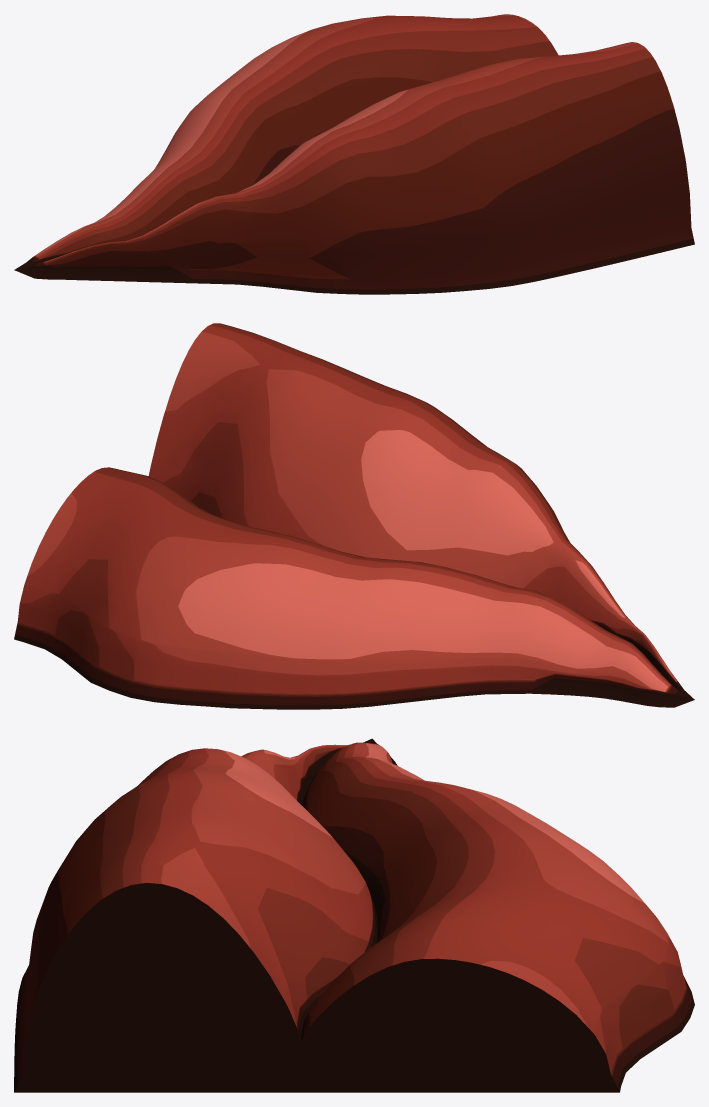
Rendered from eyespy_lips_left.glb.
The picture shows the model from 3 angles, top to bottom: view 1: azimuth 30°, elevation 25°; view 2: azimuth 150°, elevation 25°; view 3: azimuth 270°, elevation 25°; orthographic projection. The views are drawn at different scales.
Visible parts, largest first — view 1: eyespy_lips_left; view 2: eyespy_lips_left; view 3: eyespy_lips_left.
Part boxes in pixels (bbox=[...]): eyespy_lips_left: bbox=[14, 14, 694, 294]; eyespy_lips_left: bbox=[14, 323, 694, 709]; eyespy_lips_left: bbox=[14, 738, 694, 1092].
Bounding box in the file's own units: 22.25 × 6.29 × 18.52.
